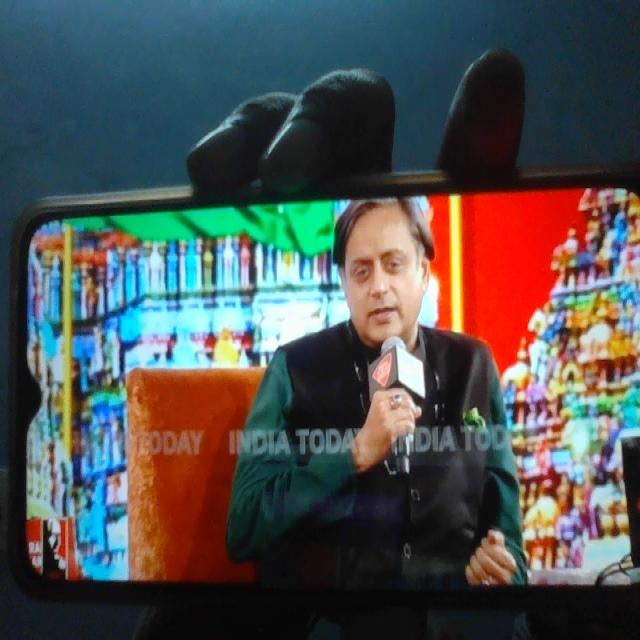fake: (328, 152, 442, 367)
